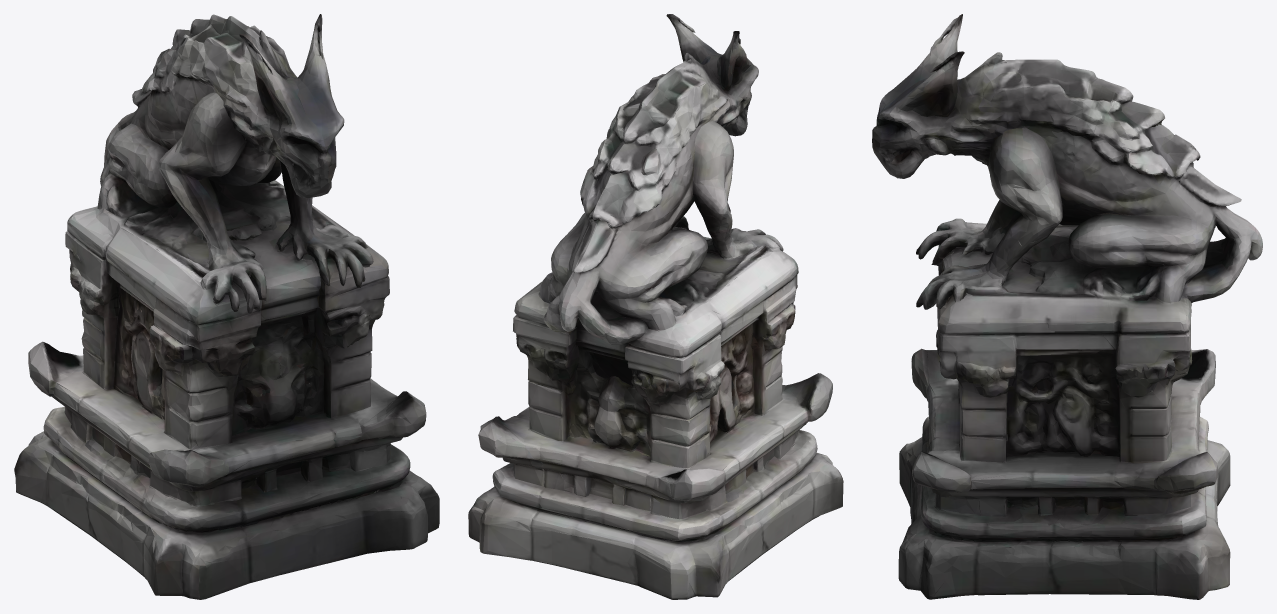
Rendered from prop_cathedral_spire.fbx.
3 renders of one model, left to right at view 1: azimuth 30°, elevation 25°; view 2: azimuth 150°, elevation 25°; view 3: azimuth 270°, elevation 25°, orthographic. The views are drawn at different scales.
Visible parts, largest first — view 1: geometry_0; view 2: geometry_0; view 3: geometry_0.
Part boxes in pixels (x1,y1,x2,y2): geometry_0: [14, 14, 439, 599]; geometry_0: [468, 14, 843, 599]; geometry_0: [872, 14, 1262, 599].
Size of the model in its own units: 0.567 by 1 by 0.7058.
